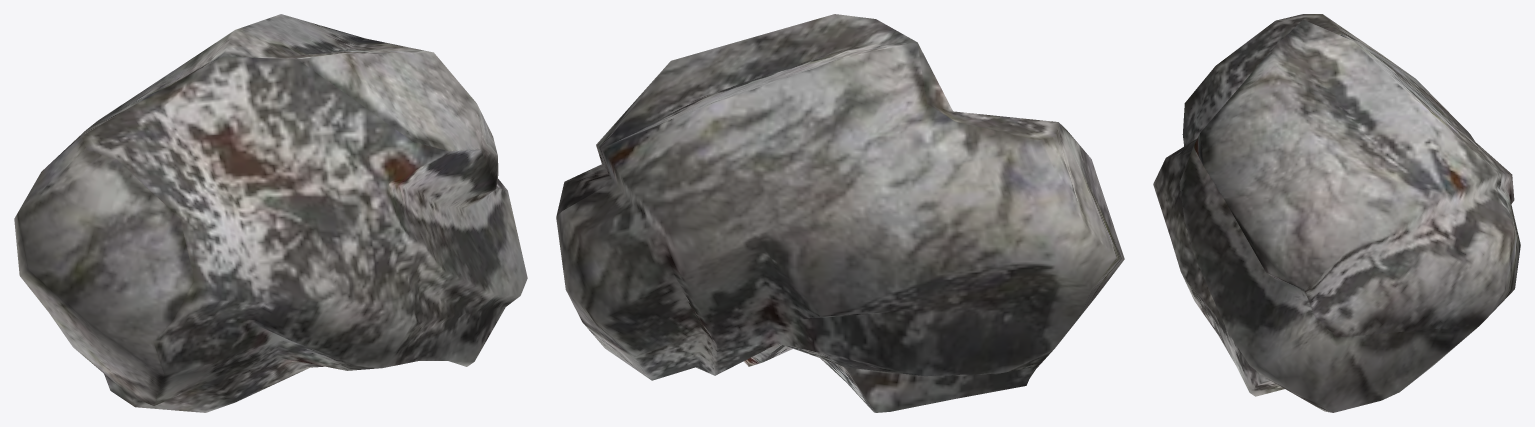
The model's file is metal_ore.worldmodel.glb.
3 views of the same model, side by side, from view 1: azimuth 30°, elevation 25°; view 2: azimuth 150°, elevation 25°; view 3: azimuth 270°, elevation 25° (orthographic). The views are drawn at different scales.
Visible parts, largest first — view 1: rock_metal_ore_wm; view 2: rock_metal_ore_wm; view 3: rock_metal_ore_wm.
Part boxes in pixels (box(x1,y1,x2,y2)): rock_metal_ore_wm: box(14, 14, 527, 412); rock_metal_ore_wm: box(556, 14, 1124, 412); rock_metal_ore_wm: box(1153, 14, 1520, 412).
Size of the model in its own units: 0.4525 by 0.3087 by 0.3497.
1 material, 1 textured.
